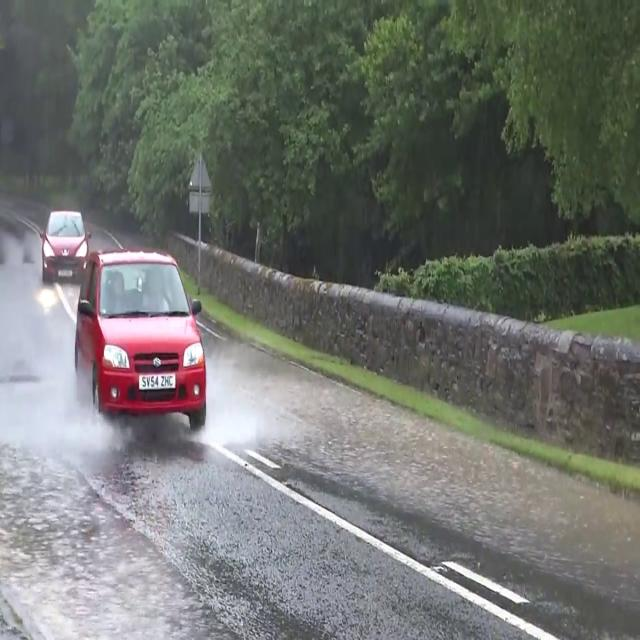license-plate-annotation: (136, 373, 176, 391)
